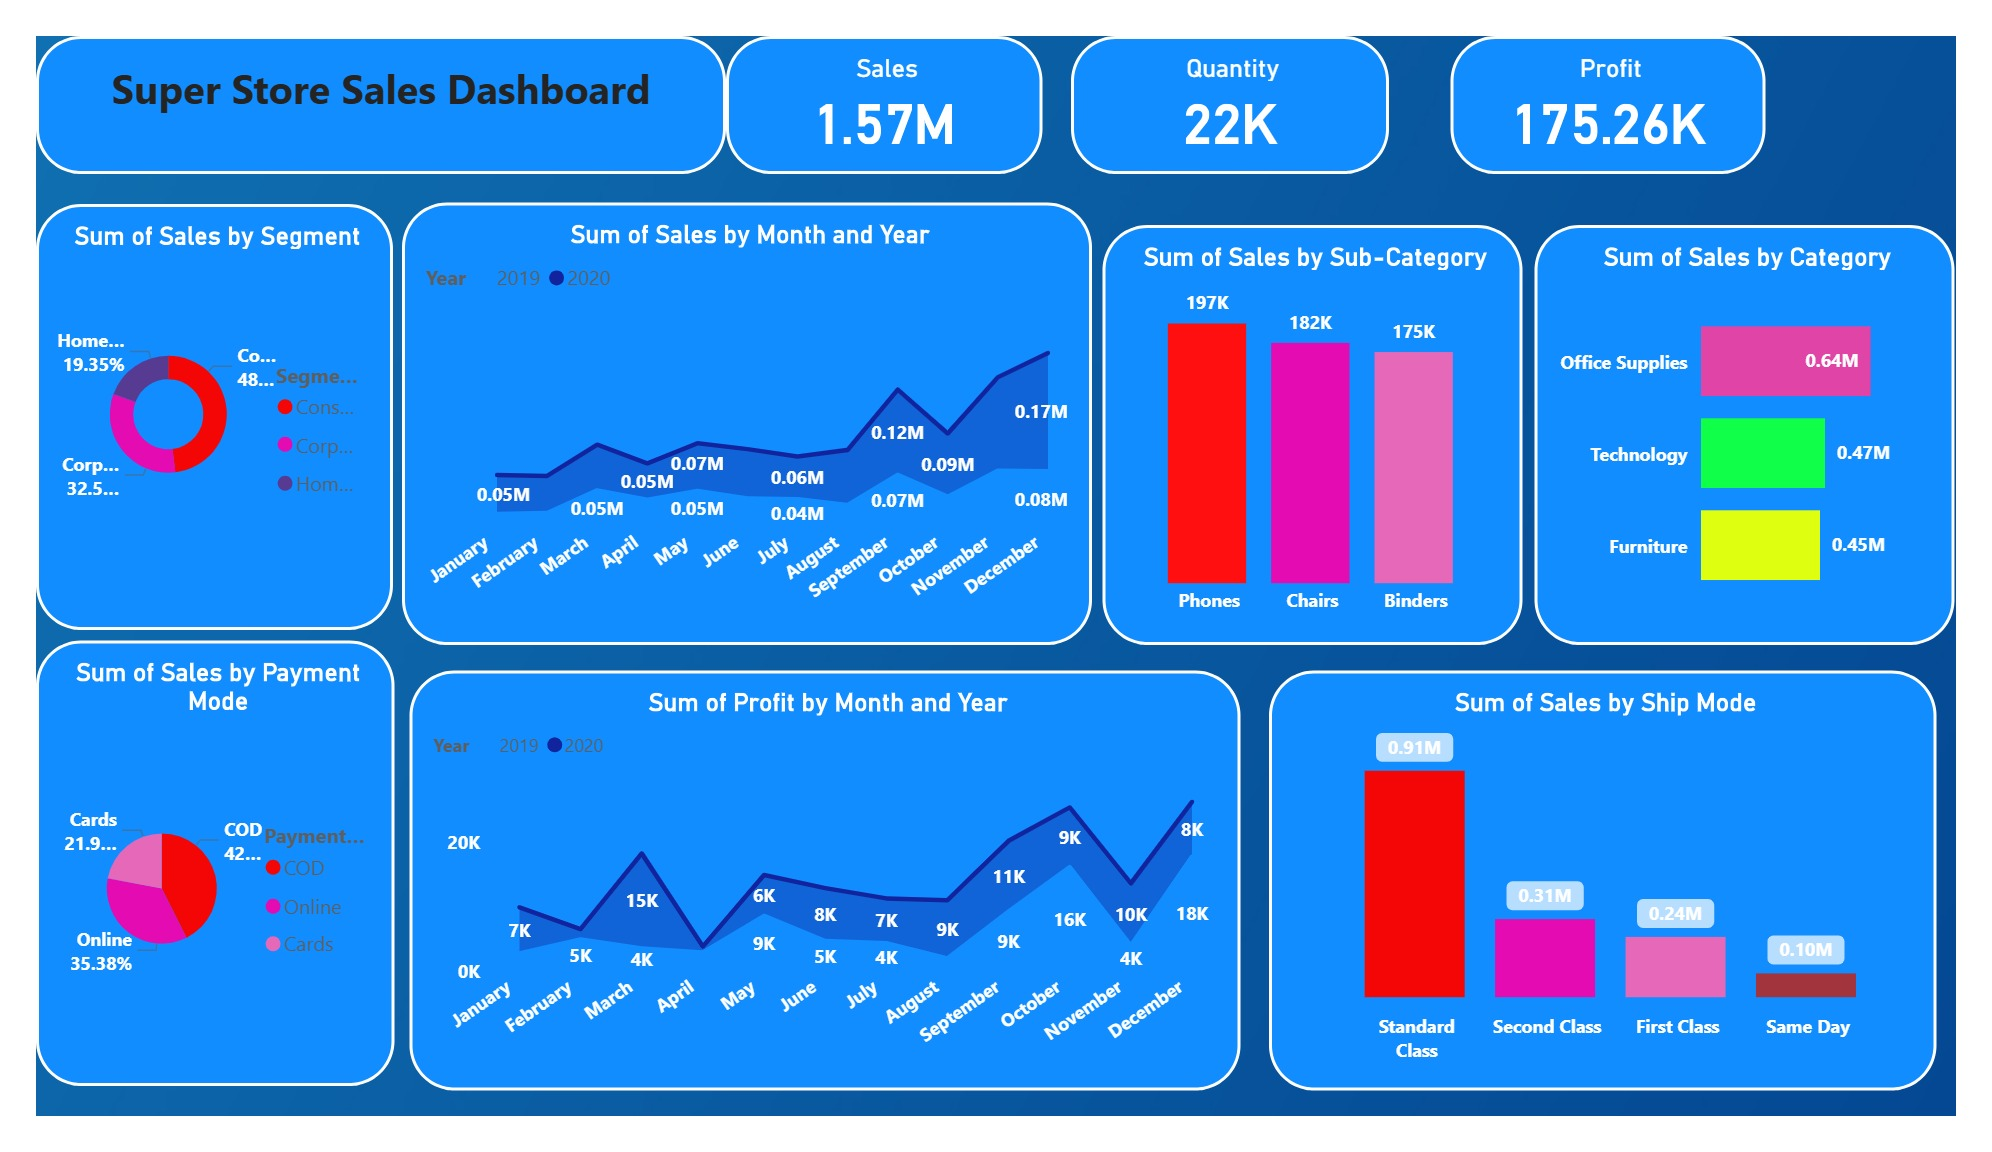

What the dashboard file says about the page in this screenshot:
{"tool":"powerbi","page":{"name":"Page 1","canvas":[1280,720],"ordinal":0},"visuals":[{"type":"clusteredBarChart","fields":{"Y":["Sum(SuperStore_Sales_Dataset.Sales)"],"Category":["SuperStore_Sales_Dataset.Category"]},"box":[999,126.2,279.9,279.9],"z":0},{"type":"clusteredColumnChart","fields":{"Category":["SuperStore_Sales_Dataset.Sub-Category"],"Y":["Sum(SuperStore_Sales_Dataset.Sales)"]},"box":[710.8,126.2,279.9,279.9],"z":1000},{"type":"lineStackedColumnComboChart","fields":{"Category":["SuperStore_Sales_Dataset.Ship Mode"],"Y":["Sum(SuperStore_Sales_Dataset.Sales)"]},"box":[822,422.6,444.6,279.9],"z":2000},{"type":"stackedAreaChart","fields":{"Category":["SuperStore_Sales_Dataset.Order Date.Variation.Date Hierarchy.Month","SuperStore_Sales_Dataset.Order Date.Variation.Date Hierarchy.Day"],"Y":["Sum(SuperStore_Sales_Dataset.Sales)"],"Series":["SuperStore_Sales_Dataset.Order Date.Variation.Date Hierarchy.Year"]},"box":[244.3,111.1,459.7,295],"z":3000},{"type":"stackedAreaChart","fields":{"Category":["SuperStore_Sales_Dataset.Order Date.Variation.Date Hierarchy.Month","SuperStore_Sales_Dataset.Order Date.Variation.Date Hierarchy.Day"],"Series":["SuperStore_Sales_Dataset.Order Date.Variation.Date Hierarchy.Year"],"Y":["Sum(SuperStore_Sales_Dataset.Profit)"]},"box":[249.4,423.1,554,279.8],"z":4000},{"type":"donutChart","fields":{"Y":["Sum(SuperStore_Sales_Dataset.Sales)"],"Category":["SuperStore_Sales_Dataset.Segment"]},"box":[0,111.6,238.4,283.9],"z":5000},{"type":"pieChart","fields":{"Y":["Sum(SuperStore_Sales_Dataset.Sales)"],"Category":["SuperStore_Sales_Dataset.Payment Mode"]},"box":[0,403.4,238.8,296.4],"z":6000},{"type":"textbox","box":[0,0,460.3,92.3],"z":7000},{"type":"card","title":"Sales","fields":{"Values":["Sum(SuperStore_Sales_Dataset.Sales)"]},"box":[459.7,0,211.3,91.9],"z":8000},{"type":"card","title":"Quantity","fields":{"Values":["Sum(SuperStore_Sales_Dataset.Quantity)"]},"box":[690.2,0,211.3,91.9],"z":9000},{"type":"card","title":"Profit","fields":{"Values":["Sum(SuperStore_Sales_Dataset.Profit)"]},"box":[942.6,0,210.9,92.3],"z":10000}]}

Visuals, with their boxes in screenshot pixels (x1, y1, x2, y2), scaled from the page's 1280x720 canvas onto the 1992x1152 screenshot:
clusteredBarChart - Sum(SuperStore_Sales_Dataset.Sales) x SuperStore_Sales_Dataset.Category: rect(1555, 202, 1990, 650)
clusteredColumnChart - SuperStore_Sales_Dataset.Sub-Category x Sum(SuperStore_Sales_Dataset.Sales): rect(1106, 202, 1542, 650)
lineStackedColumnComboChart - SuperStore_Sales_Dataset.Ship Mode x Sum(SuperStore_Sales_Dataset.Sales): rect(1279, 676, 1971, 1124)
stackedAreaChart - SuperStore_Sales_Dataset.Order Date.Variation.Date Hierarchy.Month x SuperStore_Sales_Dataset.Order Date.Variation.Date Hierarchy.Day: rect(380, 178, 1096, 650)
stackedAreaChart - SuperStore_Sales_Dataset.Order Date.Variation.Date Hierarchy.Month x SuperStore_Sales_Dataset.Order Date.Variation.Date Hierarchy.Day: rect(388, 677, 1250, 1125)
donutChart - Sum(SuperStore_Sales_Dataset.Sales) x SuperStore_Sales_Dataset.Segment: rect(0, 179, 371, 633)
pieChart - Sum(SuperStore_Sales_Dataset.Sales) x SuperStore_Sales_Dataset.Payment Mode: rect(0, 645, 372, 1120)
textbox: rect(0, 0, 716, 148)
"Sales" card: rect(715, 0, 1044, 147)
"Quantity" card: rect(1074, 0, 1403, 147)
"Profit" card: rect(1467, 0, 1795, 148)
